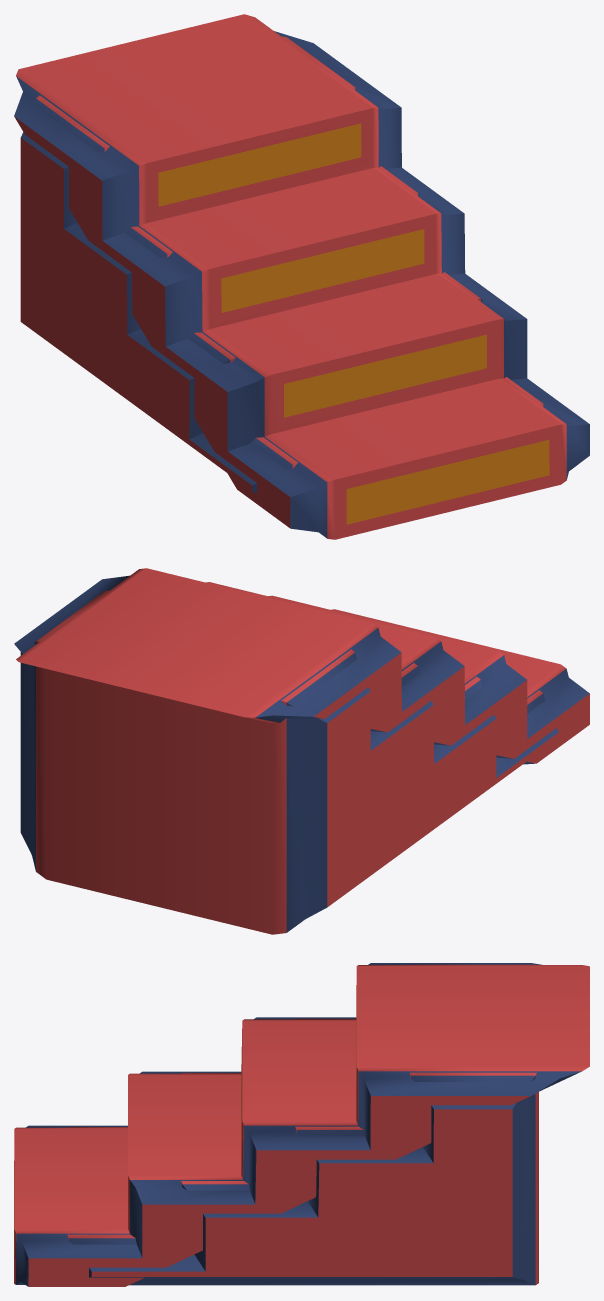
The model's file is ladder.fbx.
3 views of the same model, one above another, from view 1: azimuth 30°, elevation 25°; view 2: azimuth 150°, elevation 25°; view 3: azimuth 270°, elevation 25° (orthographic). The views are drawn at different scales.
Visible parts, largest first — view 1: ladder_one, ladder_two; view 2: ladder_two, ladder_one; view 3: ladder_one, ladder_two.
Boxes of the visible parts, x1=… form: ladder_one: x1=14, y1=14, x2=589, y2=539; ladder_two: x1=20, y1=36, x2=544, y2=493; ladder_two: x1=20, y1=590, x2=558, y2=934; ladder_one: x1=14, y1=568, x2=589, y2=764; ladder_one: x1=14, y1=963, x2=589, y2=1286; ladder_two: x1=67, y1=964, x2=538, y2=1285.
Size of the model in its own units: 270 by 201 by 483.
